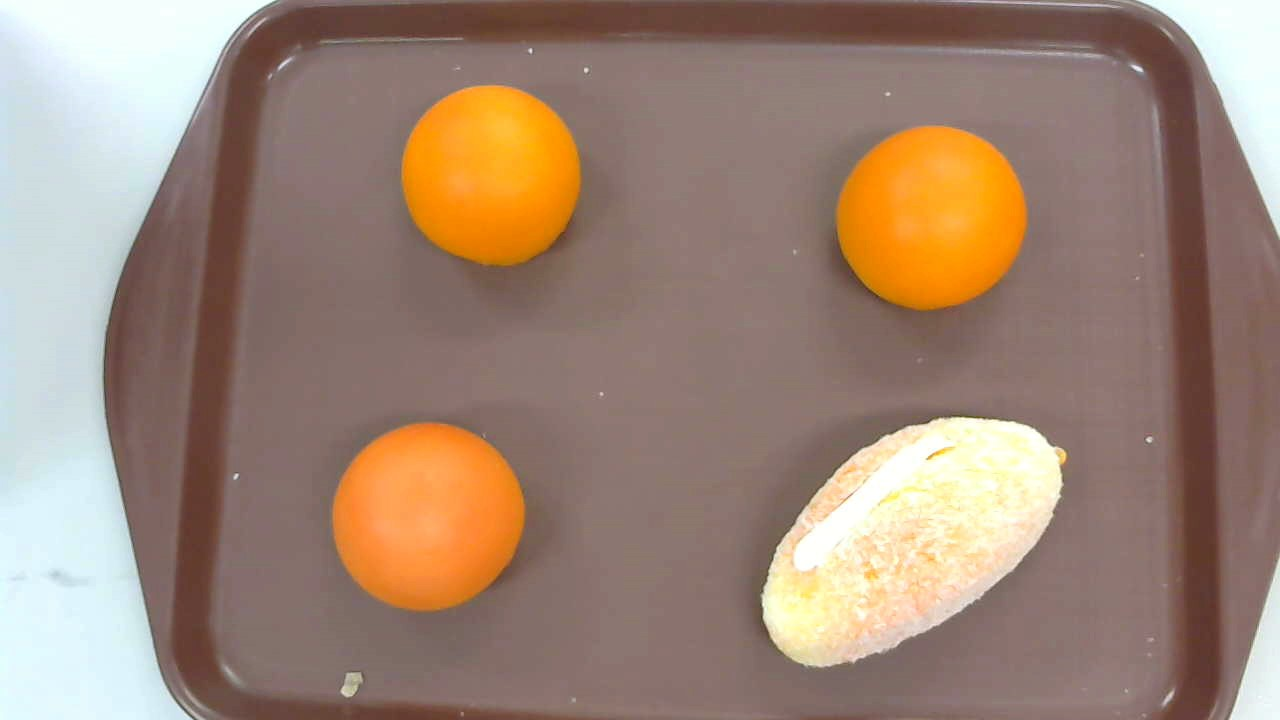bun: (332, 422, 527, 612), (836, 122, 1028, 312), (401, 84, 582, 268)
coconut: (761, 416, 1068, 669)
